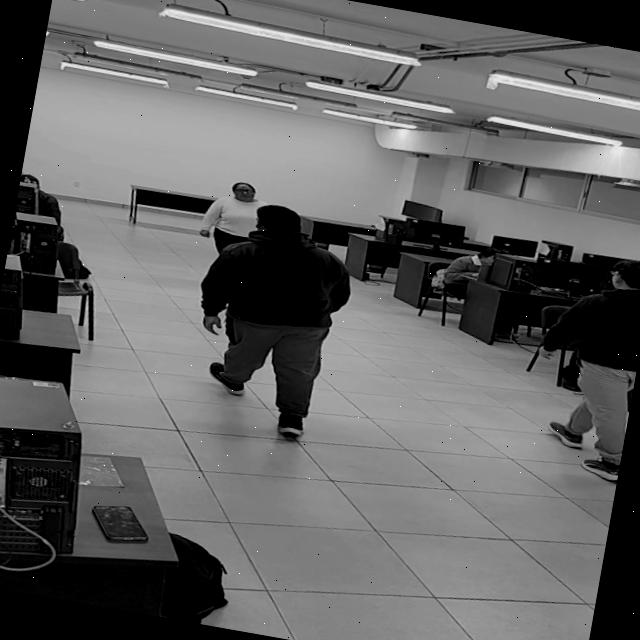Persona: (163, 192, 368, 444), (511, 241, 640, 485), (198, 171, 284, 262)
